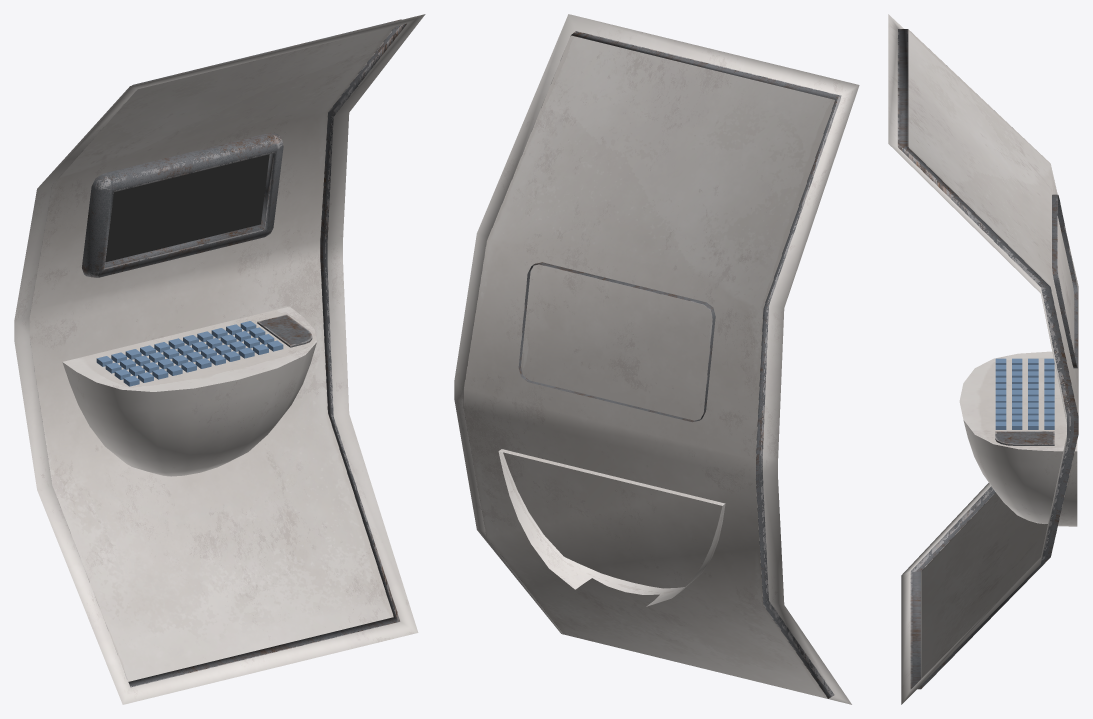
File: PF_StrgConsDoor.fbx
3 views of the same model, side by side, from view 1: azimuth 30°, elevation 25°; view 2: azimuth 150°, elevation 25°; view 3: azimuth 270°, elevation 25° (orthographic). The views are drawn at different scales.
Parts seen in each view (by area): view 1: SM_StrgConsDoor, Cube_022, Cube_021, Cube_023, Cube_028; view 2: SM_StrgConsDoor, Cube_022, Cube_021; view 3: SM_StrgConsDoor, Cube_022, Cube_023, Cube_021, Cube_028.
Part boxes in pixels (x1=…): SM_StrgConsDoor: x1=14, y1=14, x2=425, y2=704; Cube_022: x1=62, y1=306, x2=316, y2=476; Cube_021: x1=82, y1=133, x2=283, y2=277; Cube_023: x1=96, y1=321, x2=283, y2=386; Cube_028: x1=257, y1=314, x2=312, y2=347; SM_StrgConsDoor: x1=454, y1=14, x2=859, y2=704; Cube_022: x1=498, y1=449, x2=725, y2=606; Cube_021: x1=518, y1=262, x2=715, y2=422; SM_StrgConsDoor: x1=888, y1=14, x2=1078, y2=704; Cube_022: x1=959, y1=351, x2=1077, y2=526; Cube_023: x1=995, y1=358, x2=1054, y2=429; Cube_021: x1=1052, y1=194, x2=1077, y2=368; Cube_028: x1=995, y1=431, x2=1054, y2=445.
Size of the model in its own units: 124 by 224 by 68.87.
1 material, 1 textured.
